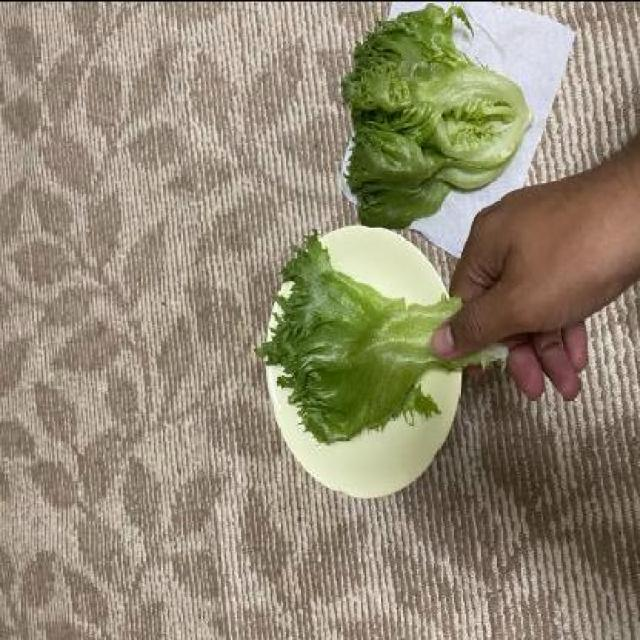Lettuce: (258, 226, 508, 450), (330, 1, 535, 232)
